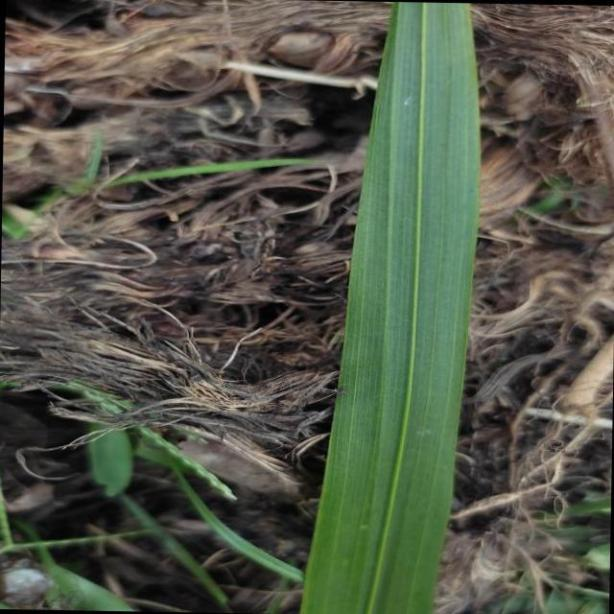Healthy: (296, 0, 481, 614)
